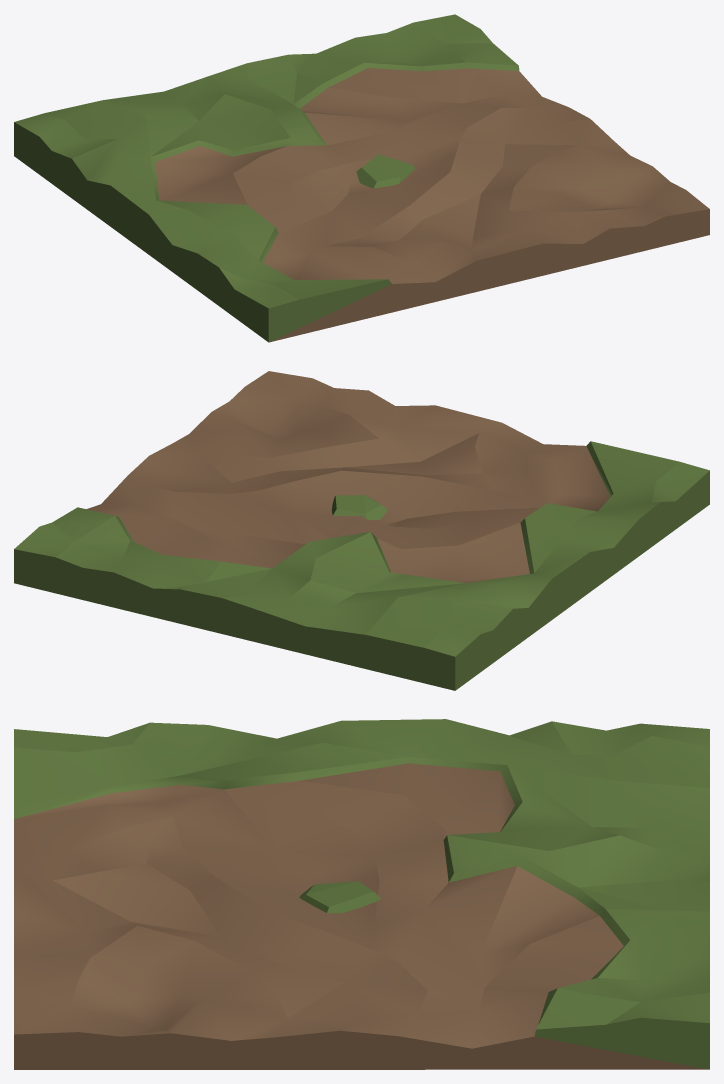
Rendered from Ground_Corner_Internal_LU.glb.
The picture shows the model from 3 angles, top to bottom: view 1: azimuth 30°, elevation 25°; view 2: azimuth 150°, elevation 25°; view 3: azimuth 270°, elevation 25°; orthographic projection. The views are drawn at different scales.
Visible parts, largest first — view 1: Ground_Corner_Internal_LU; view 2: Ground_Corner_Internal_LU; view 3: Ground_Corner_Internal_LU.
Part boxes in pixels (left/top/right/bottom): Ground_Corner_Internal_LU: left=14, top=14, right=709, bottom=342; Ground_Corner_Internal_LU: left=14, top=371, right=709, bottom=690; Ground_Corner_Internal_LU: left=14, top=719, right=709, bottom=1069.
Bounding box in the file's own units: 1.47 × 0.1465 × 1.47.
